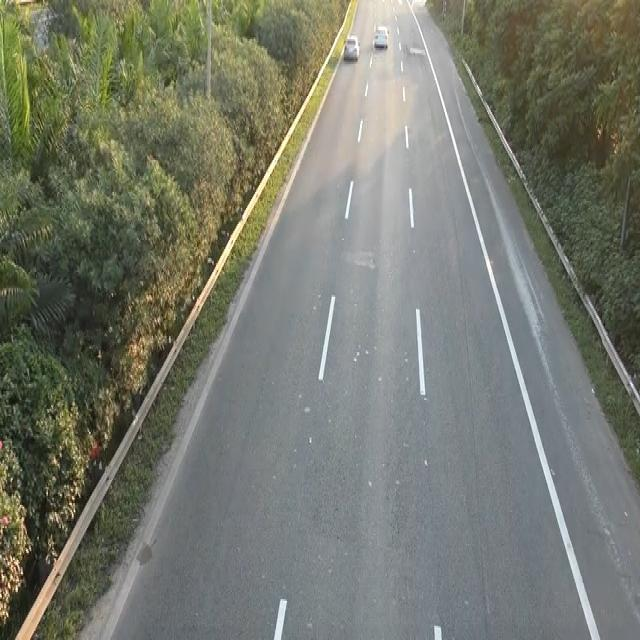bus: (342, 32, 360, 60), (372, 23, 389, 48)
